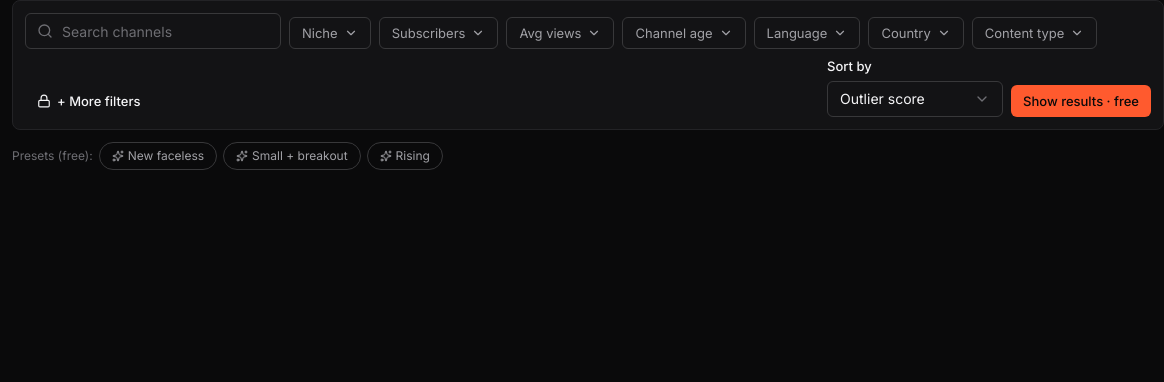
Test: FilterBar (D-077) › locks the Pro filters for Starter (visible, never hidden) with an upgrade link
Step 1. Click the button "+ More filters" → click(89, 101), box [25, 85, 152, 117]
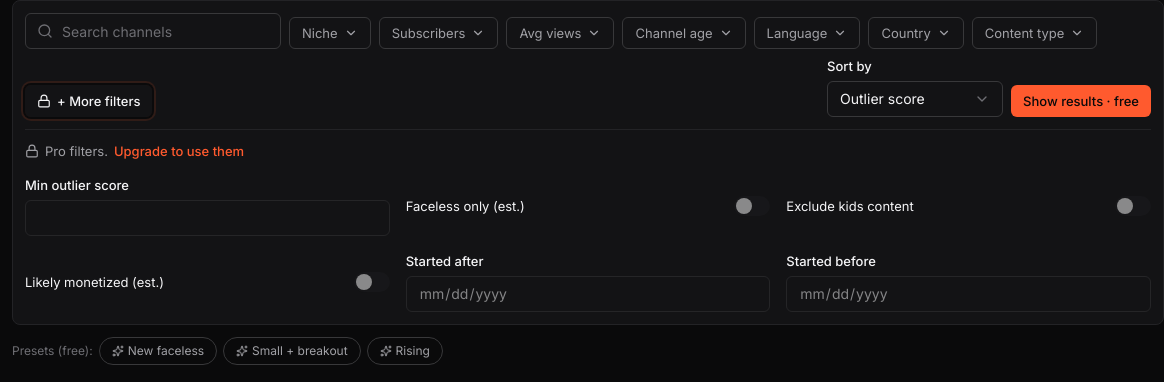
Now the switch named "Faceless only" in the row of "Faceless only (est.)" is disabled, box [734, 196, 770, 216]
